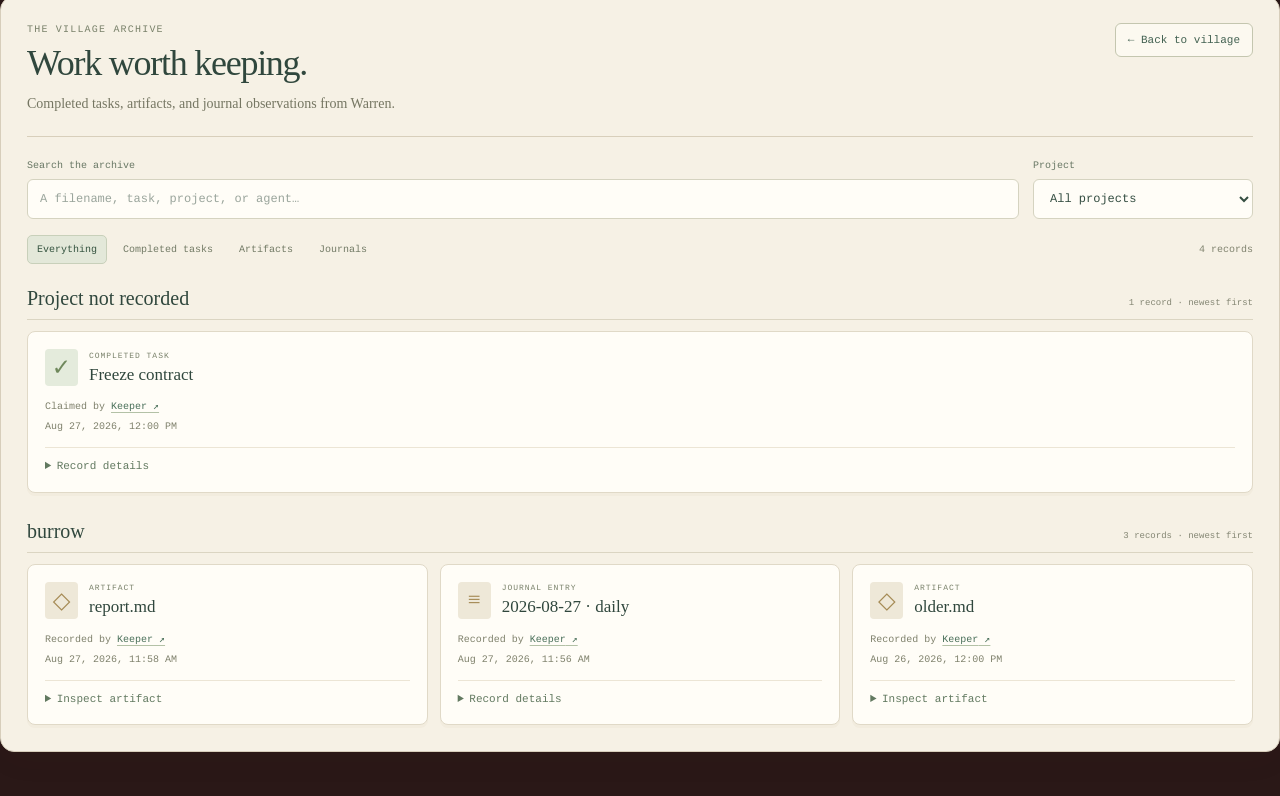
Test: village archive › shows clipboard failure instead of claiming the path was copied
The image size is (1280, 796).
Click the heading "Inspect artifact" below "Aug 27, 2026, 11:58 AM": (109, 699) [57,693,162,705]
(page scrolled)
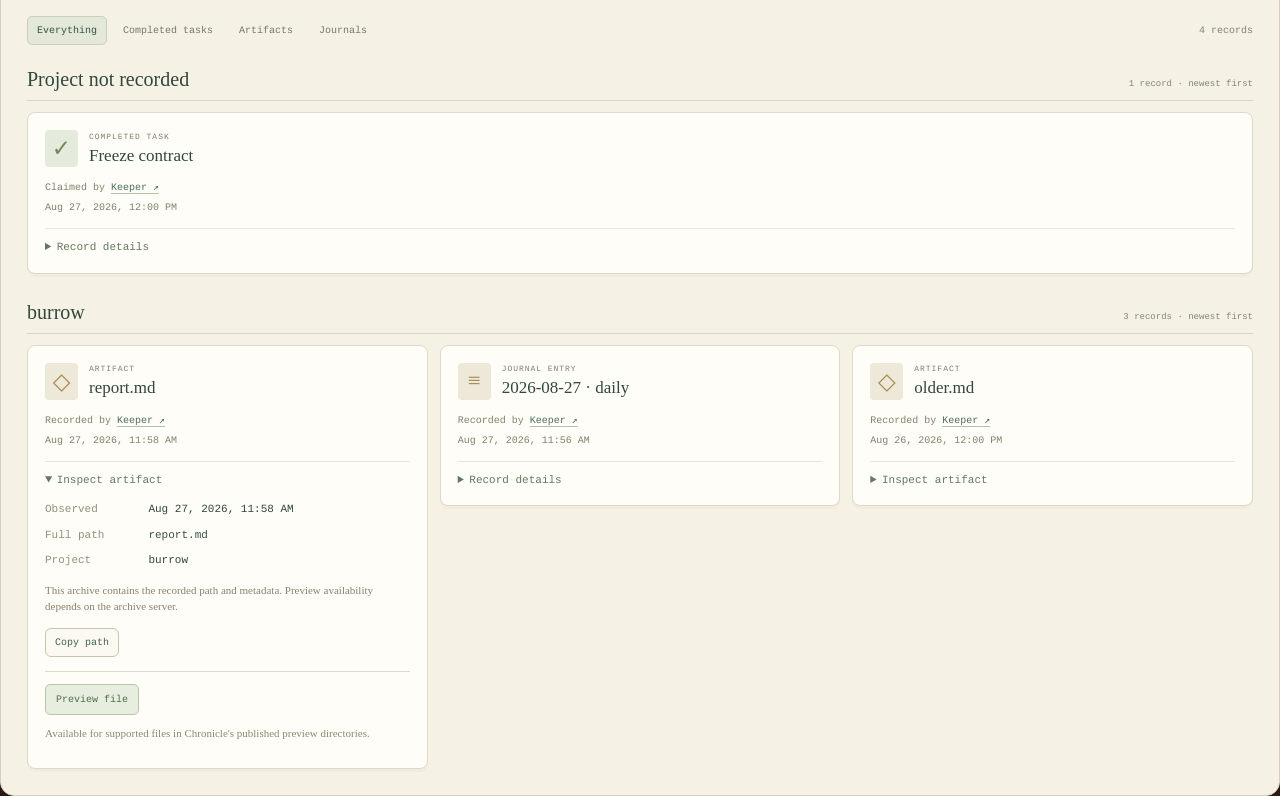
Click the button "Copy path": (82, 642) [45,628,119,657]
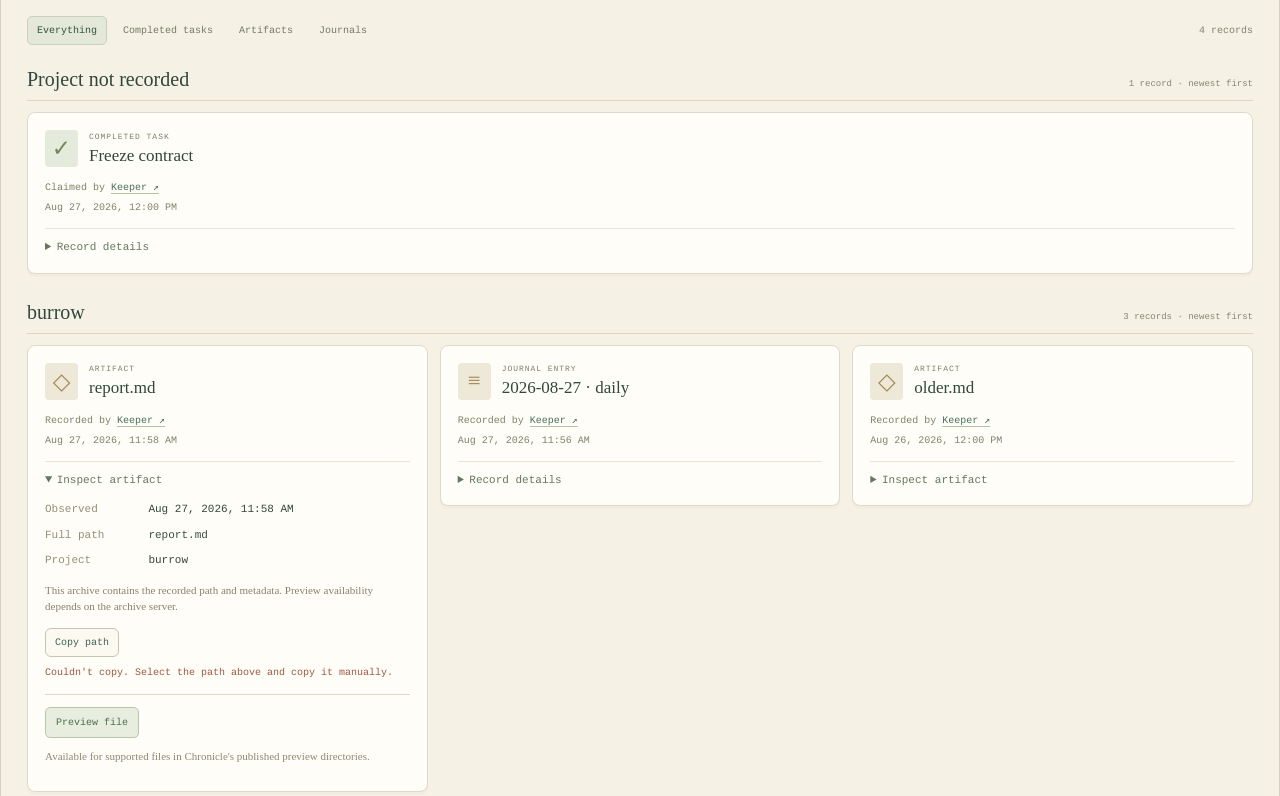
Check: the message "Couldn't copy. Select the path above and copy it manually." is shown, box [45,665,410,680]
